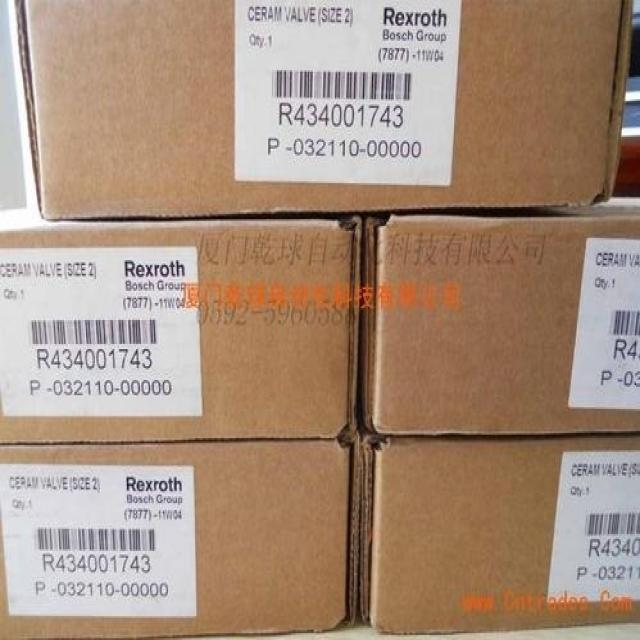box: (14, 1, 634, 219), (0, 209, 361, 444), (0, 424, 363, 638), (351, 198, 639, 433), (359, 416, 639, 634)
